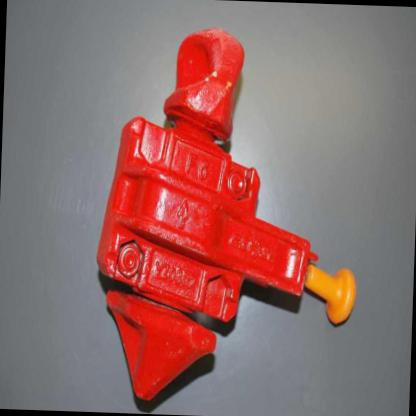Twistlock: (87, 12, 367, 412)
